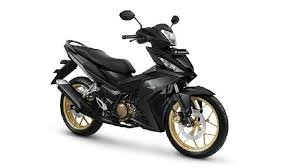motor: (46, 9, 229, 160)
